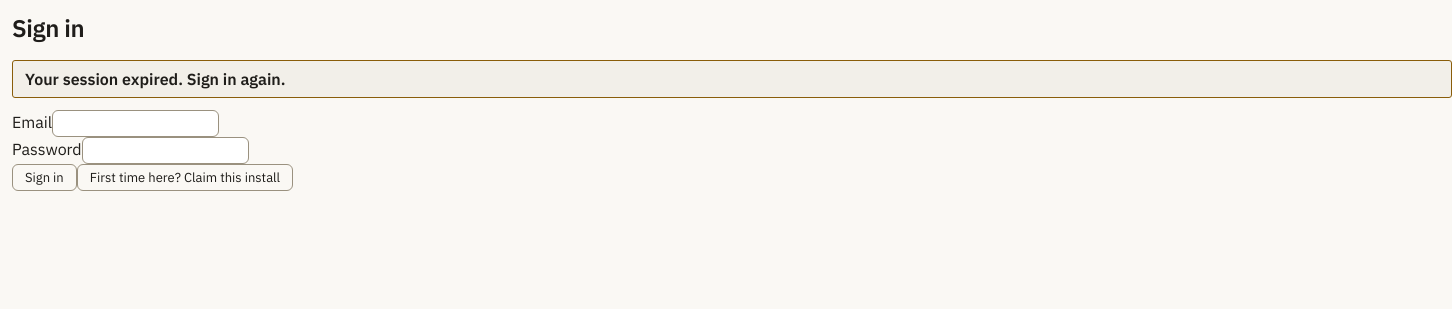
signing in again clears the expiry notice
The image size is (1452, 309).
Expected: the text "Your session expired. Sign in again." is shown, [12, 60, 1451, 98]
Type "a@b.invalid" into the field labelled "Email" at coordinates (136, 124), box [52, 110, 219, 137]
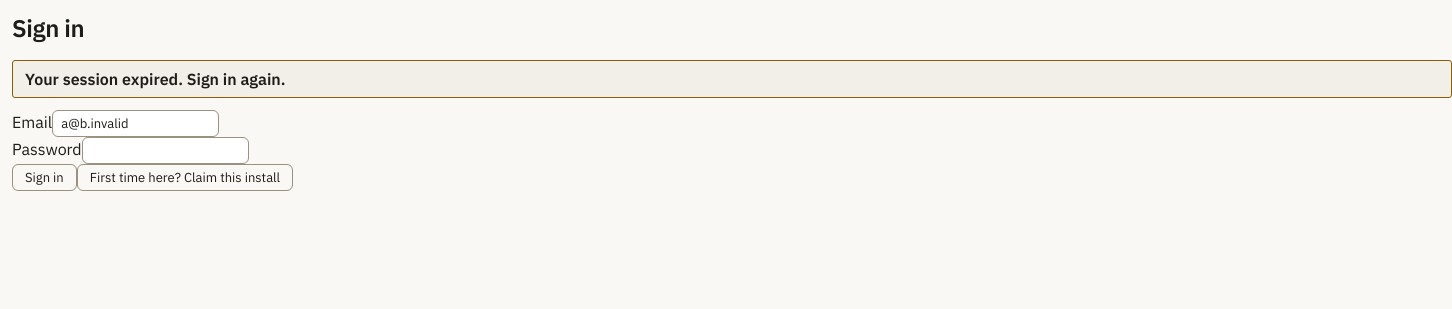
Type "pw" into the password field labelled "Password" at coordinates (165, 150), box [82, 137, 249, 164]
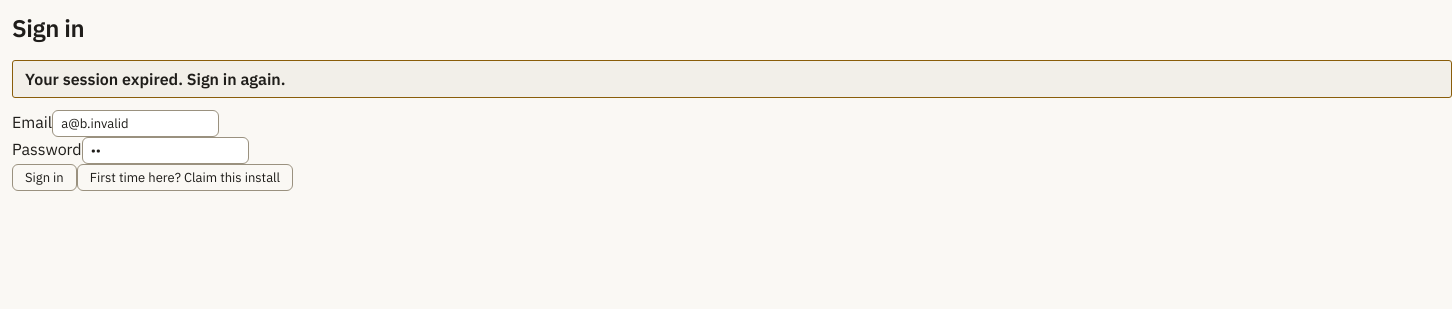
Click the button "Sign in" at coordinates (44, 178), box [12, 164, 77, 191]
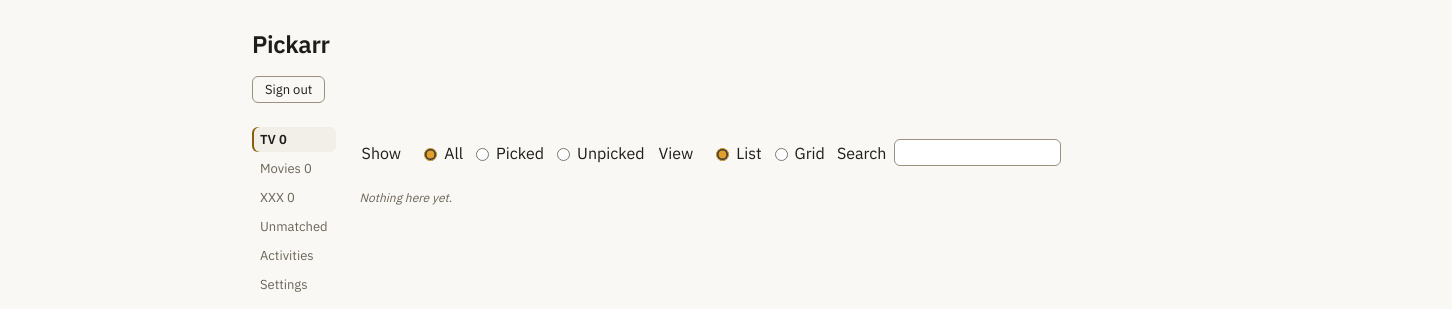
Click the button "Sign out" at coordinates (289, 90), box [252, 76, 325, 103]
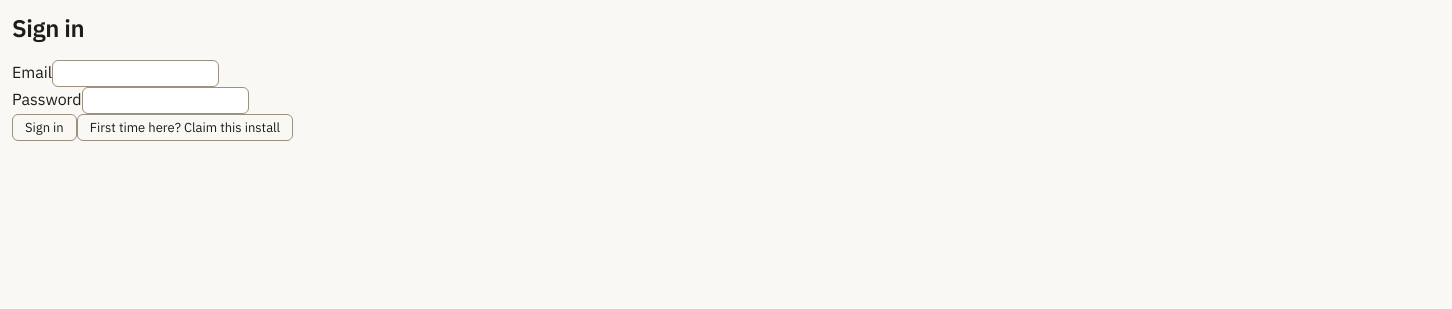
Expected: the heading "Sign in" is shown, [12, 12, 84, 44]
